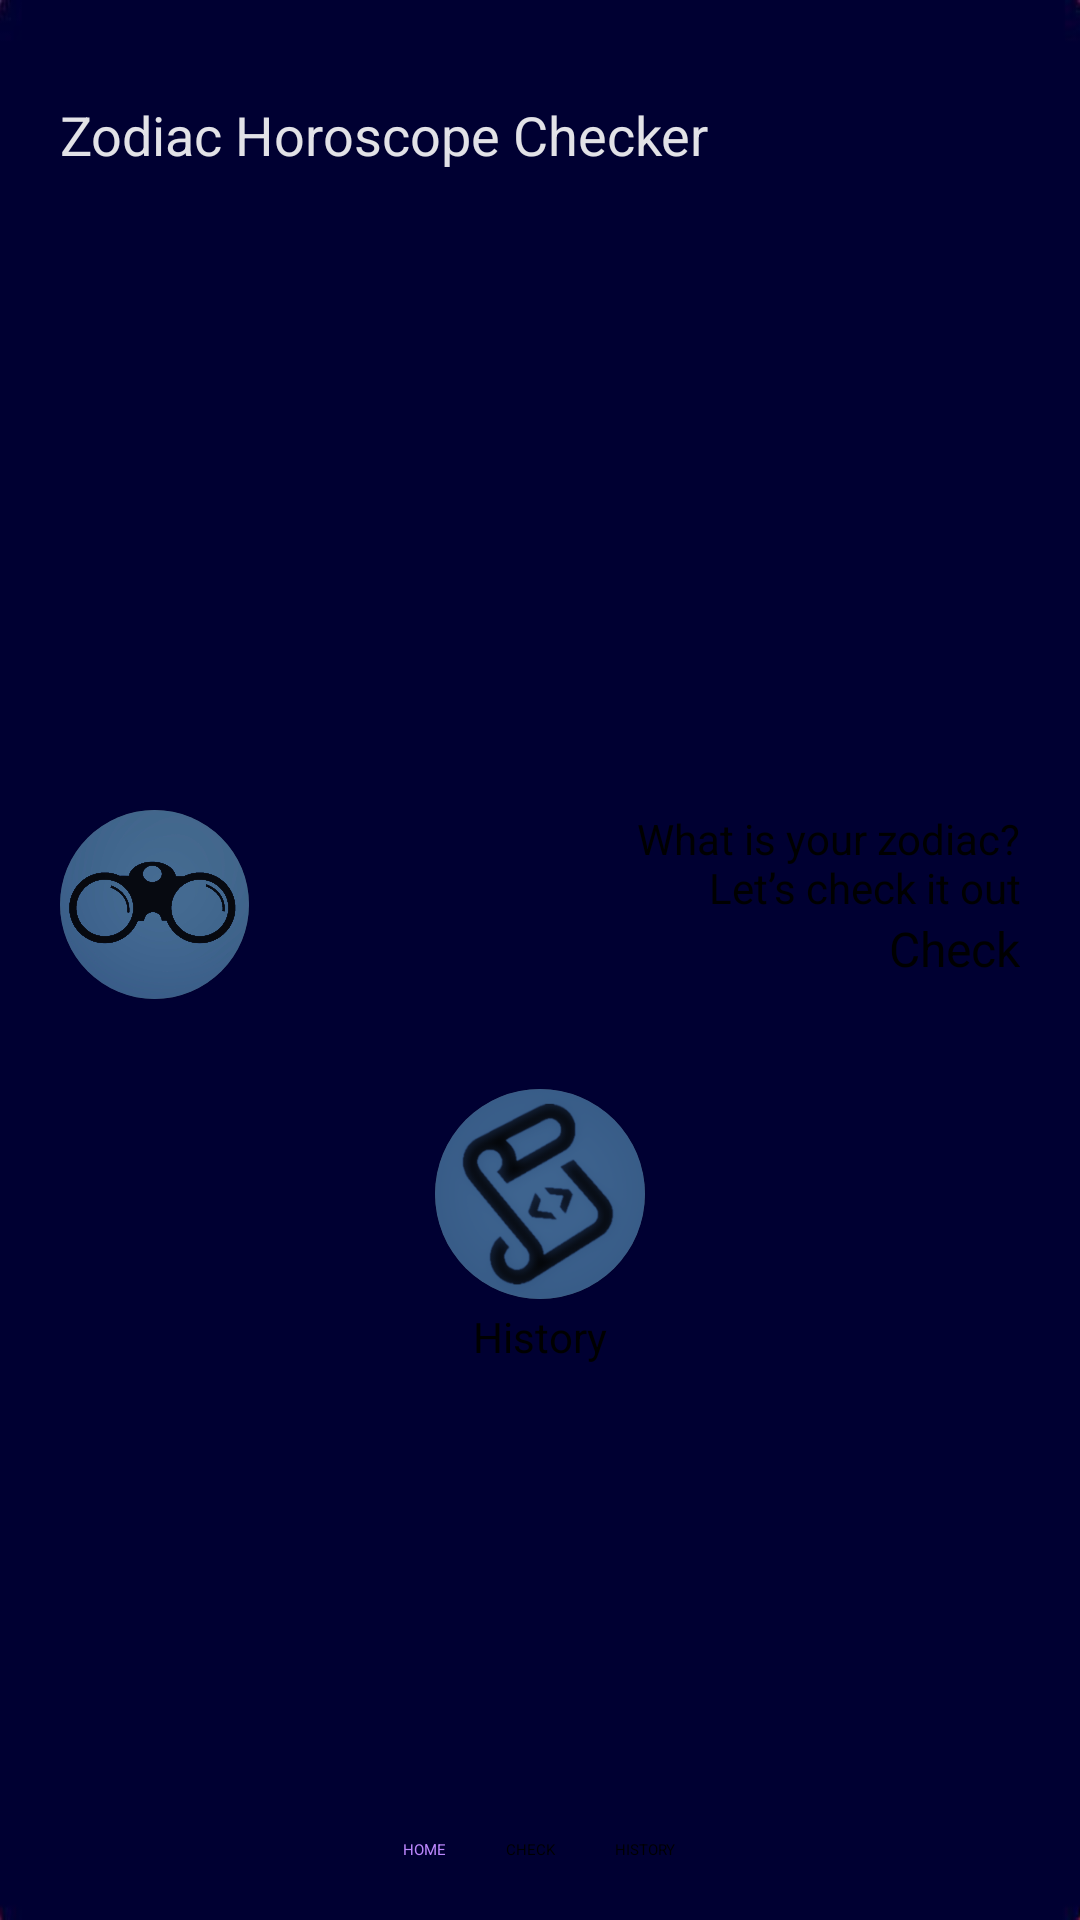

Named icons in this screenshot (1080x1920) and their bounding boxes, box=[x1, y1, x2, y2]:
binocular: box=[60, 810, 249, 999]
